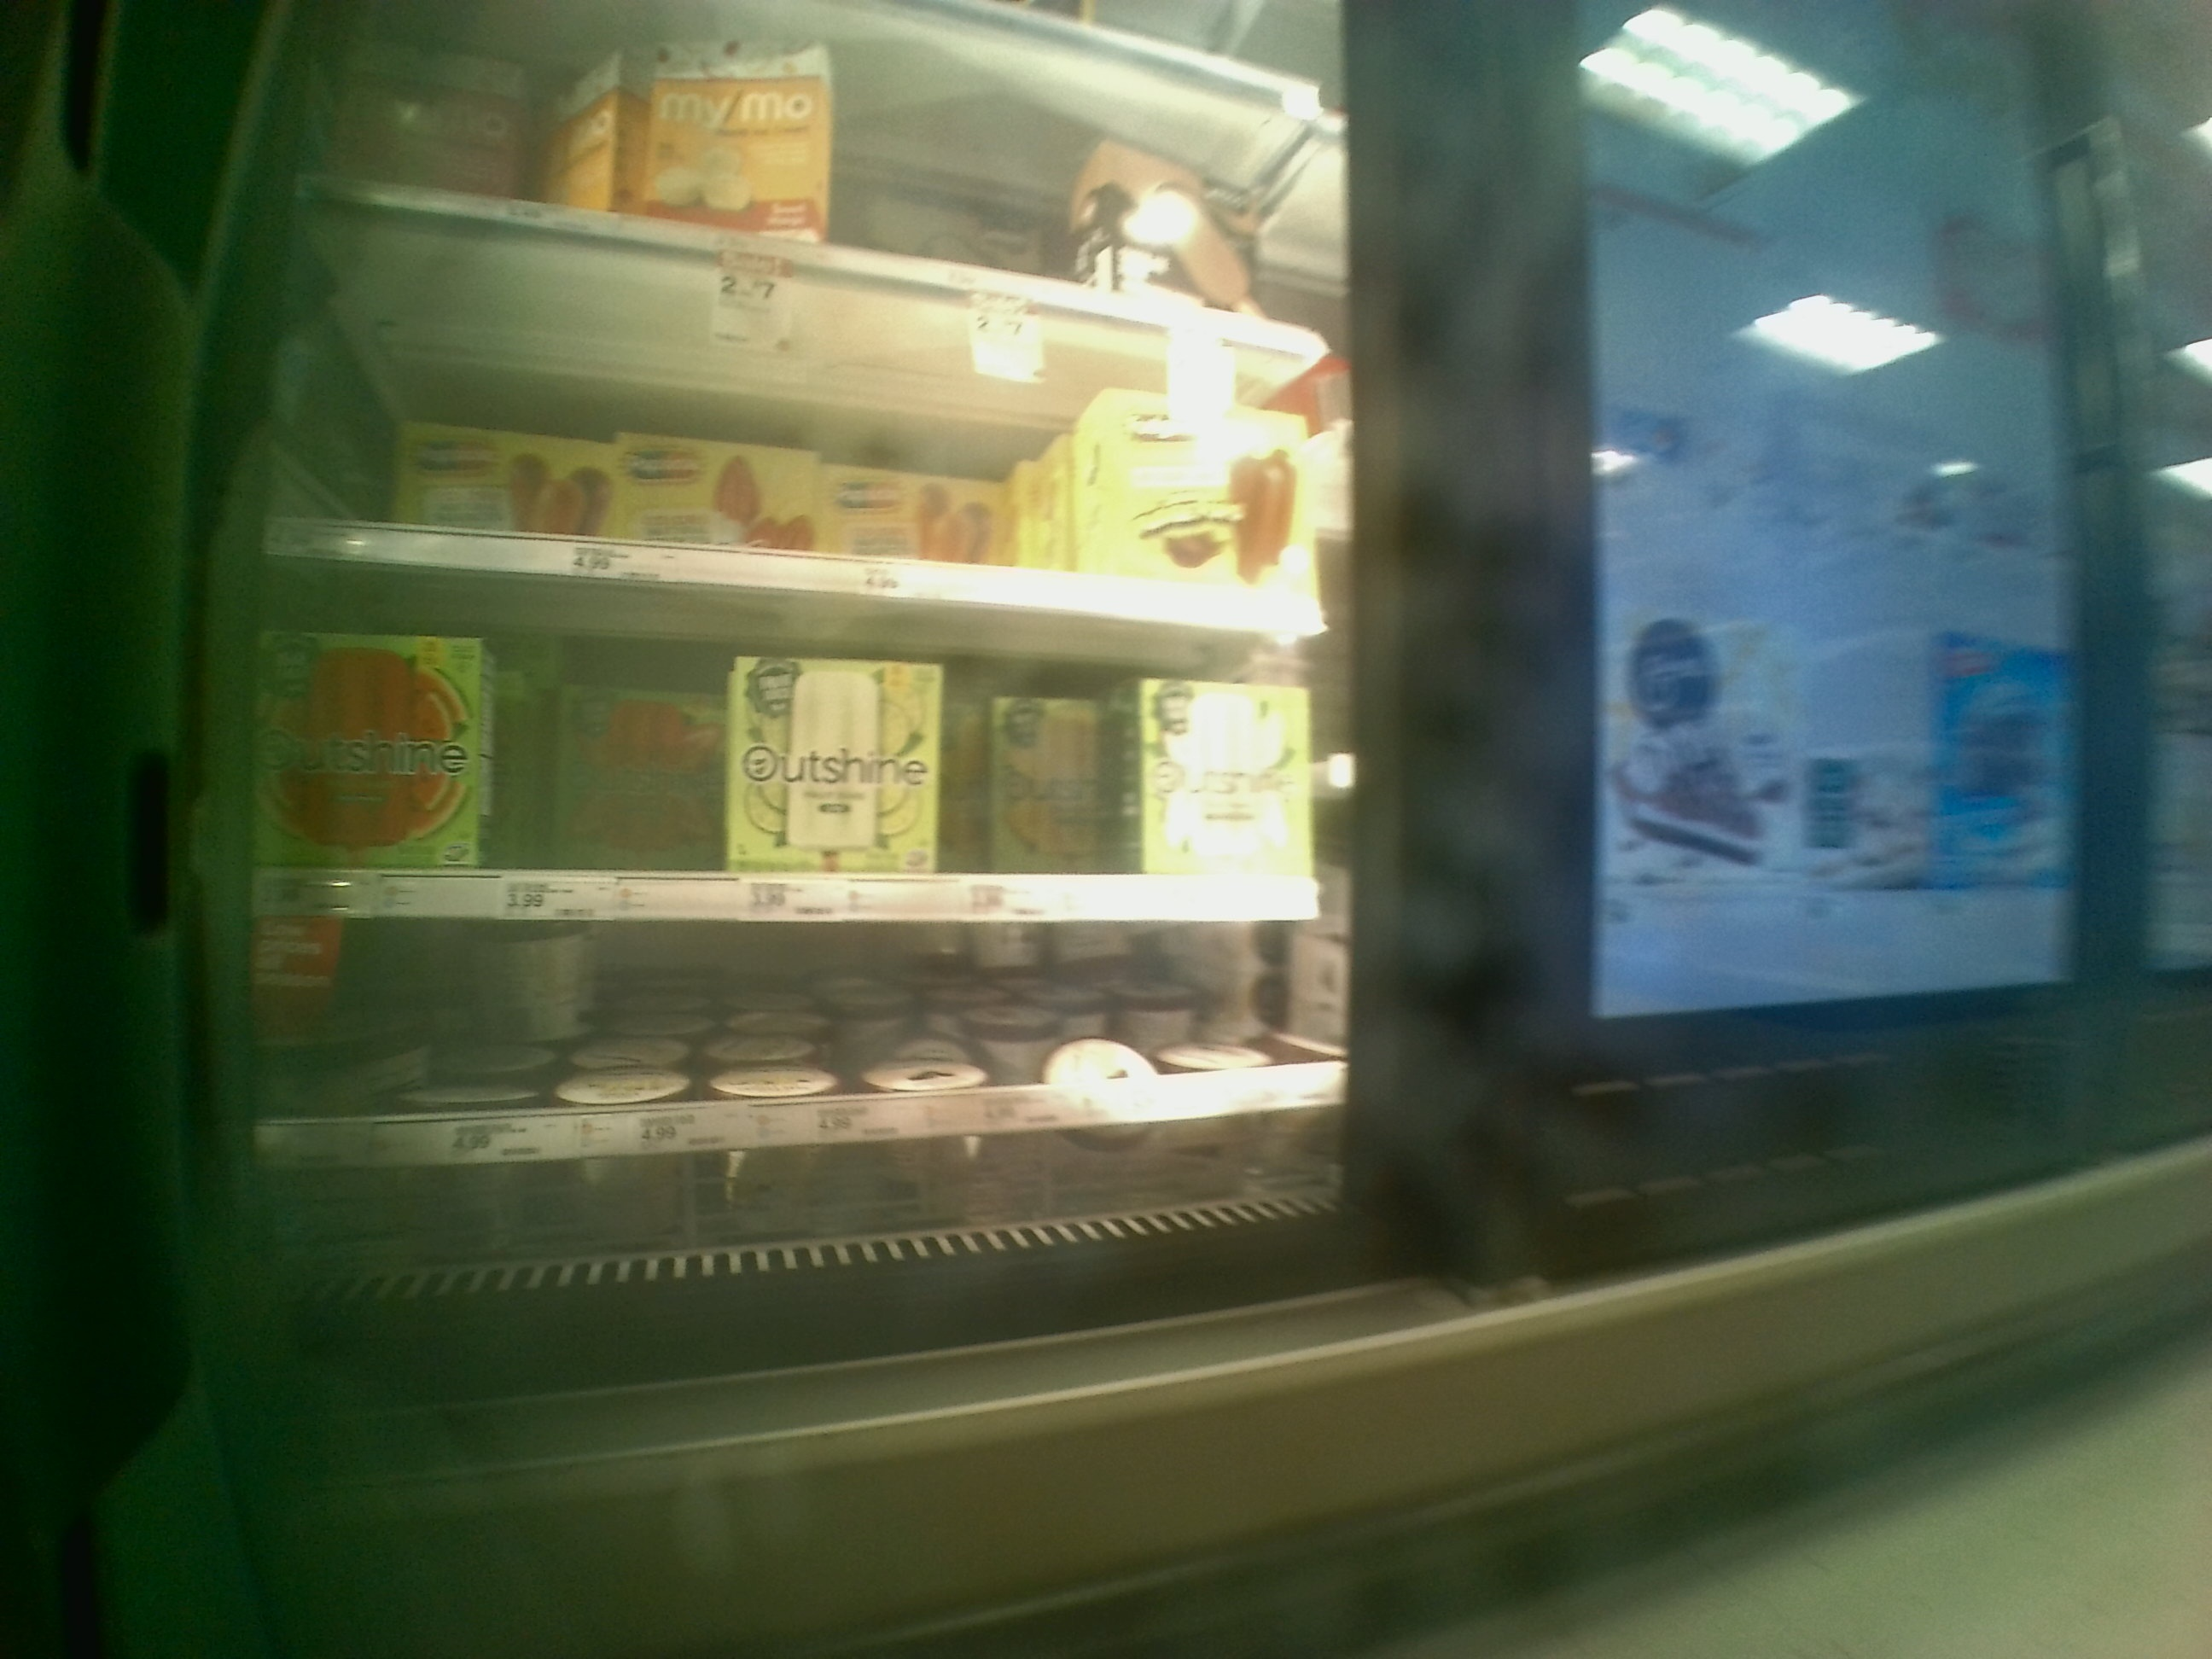shelf: (270, 197, 1315, 641), (270, 561, 1315, 917), (265, 917, 1362, 1195)
